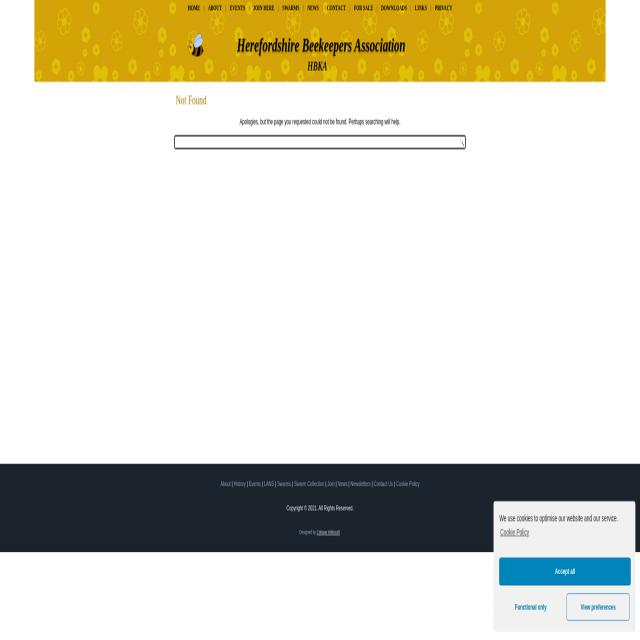button: (499, 558, 631, 585), (567, 593, 629, 619), (379, 0, 409, 17), (251, 0, 277, 17), (324, 0, 348, 17), (352, 0, 376, 17), (280, 0, 302, 17), (432, 0, 454, 17), (228, 0, 248, 17), (206, 0, 224, 17), (412, 0, 430, 17), (185, 0, 202, 17), (305, 0, 321, 17), (458, 136, 466, 148)
field: (174, 136, 466, 148)
